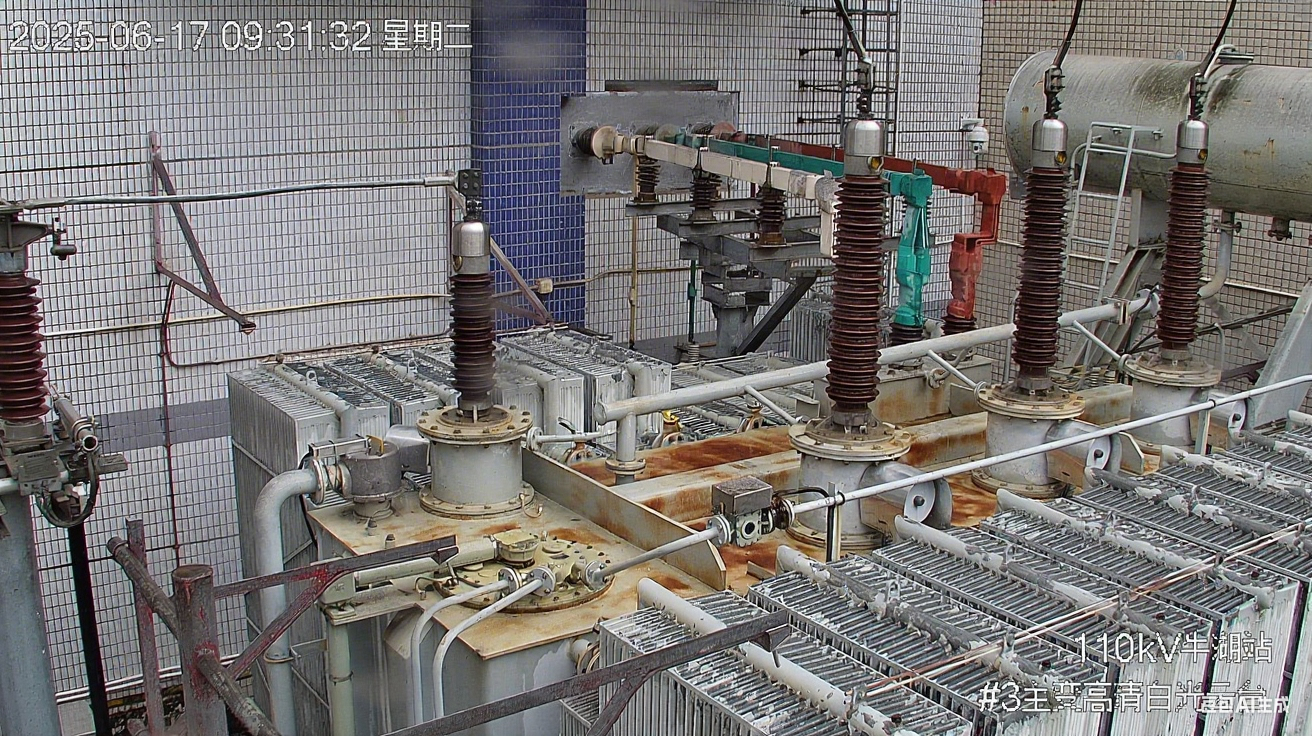HTX: (565, 380, 1227, 596), (339, 519, 694, 661), (842, 637, 1002, 705), (1116, 562, 1202, 601), (1018, 74, 1044, 115), (1241, 135, 1278, 158), (487, 411, 515, 433)
